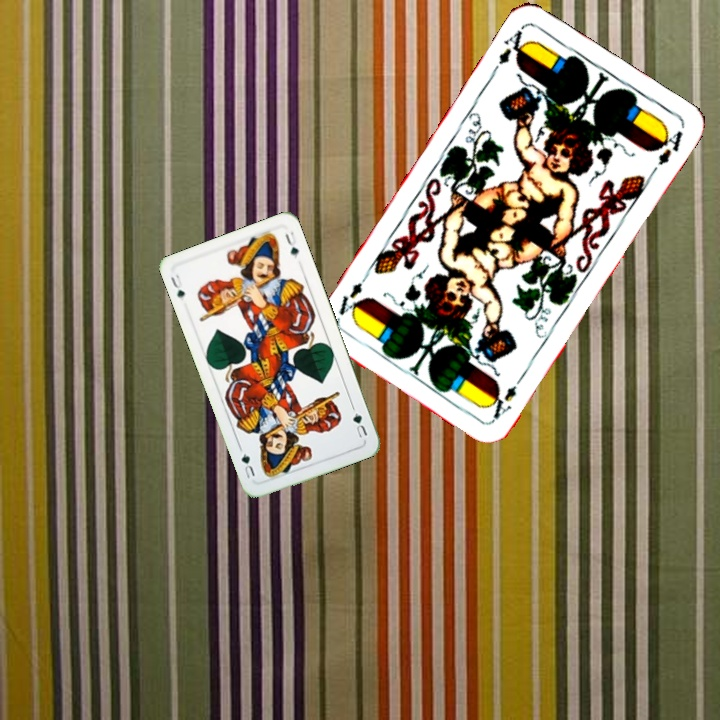EA: (488, 24, 533, 77), (486, 381, 519, 422)
GU: (349, 409, 370, 442), (167, 270, 187, 301)
